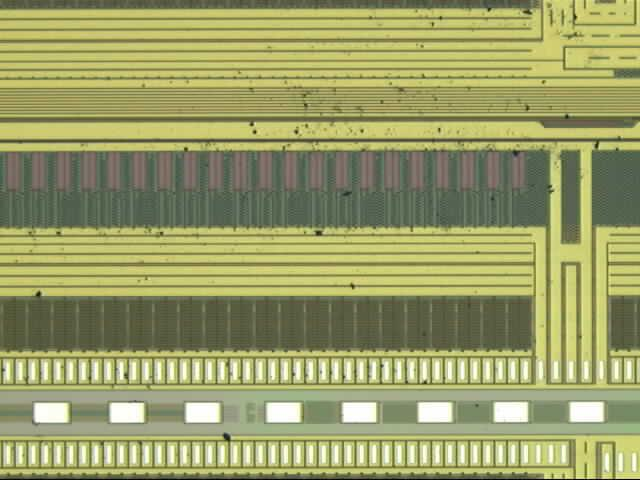PO CONTAMINATION: (1, 3, 636, 447)
